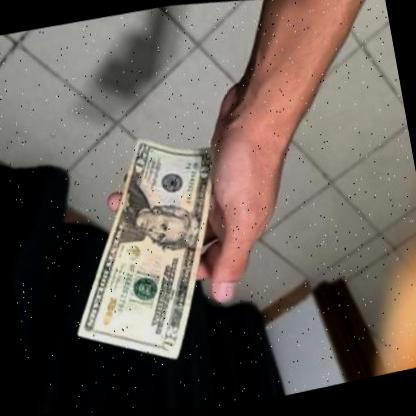dollar_front: (34, 107, 258, 390)
